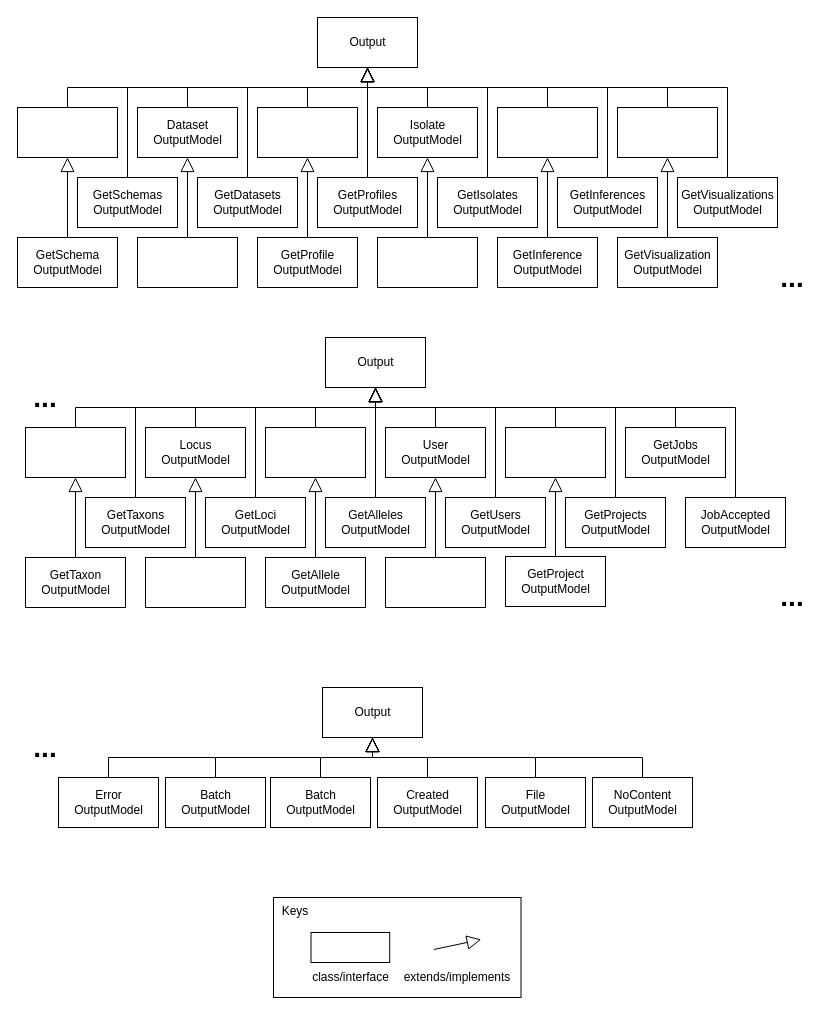
Image size: 830x1015. Some labels were removed from this diagram. The shapes that lost their labels are listed below. From the top down, each one's centre as x and y in pixels, then its label:
At (x=67, y=132): "Schema OutputModel".
At (x=307, y=132): "Profile OutputModel".
At (x=547, y=132): "Inference OutputModel".
At (x=667, y=132): "Visualization OutputModel".
At (x=187, y=262): "GetDataset OutputModel".
At (x=427, y=262): "GetIsolate OutputModel".
At (x=75, y=452): "Taxon OutputModel".
At (x=315, y=452): "Allele OutputModel".
At (x=555, y=452): "Project OutputModel".
At (x=195, y=582): "GetLocus OutputModel".
At (x=435, y=582): "GetUser OutputModel".
